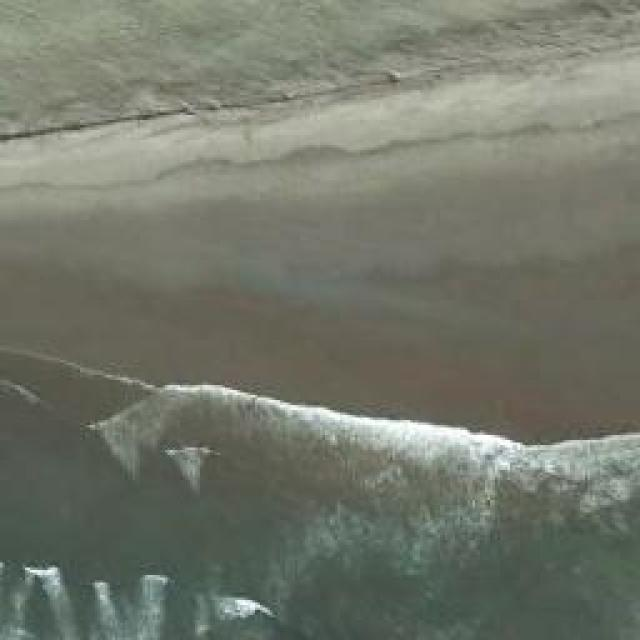Beach: (0, 0, 638, 638)
Mountain: (0, 330, 638, 638)
